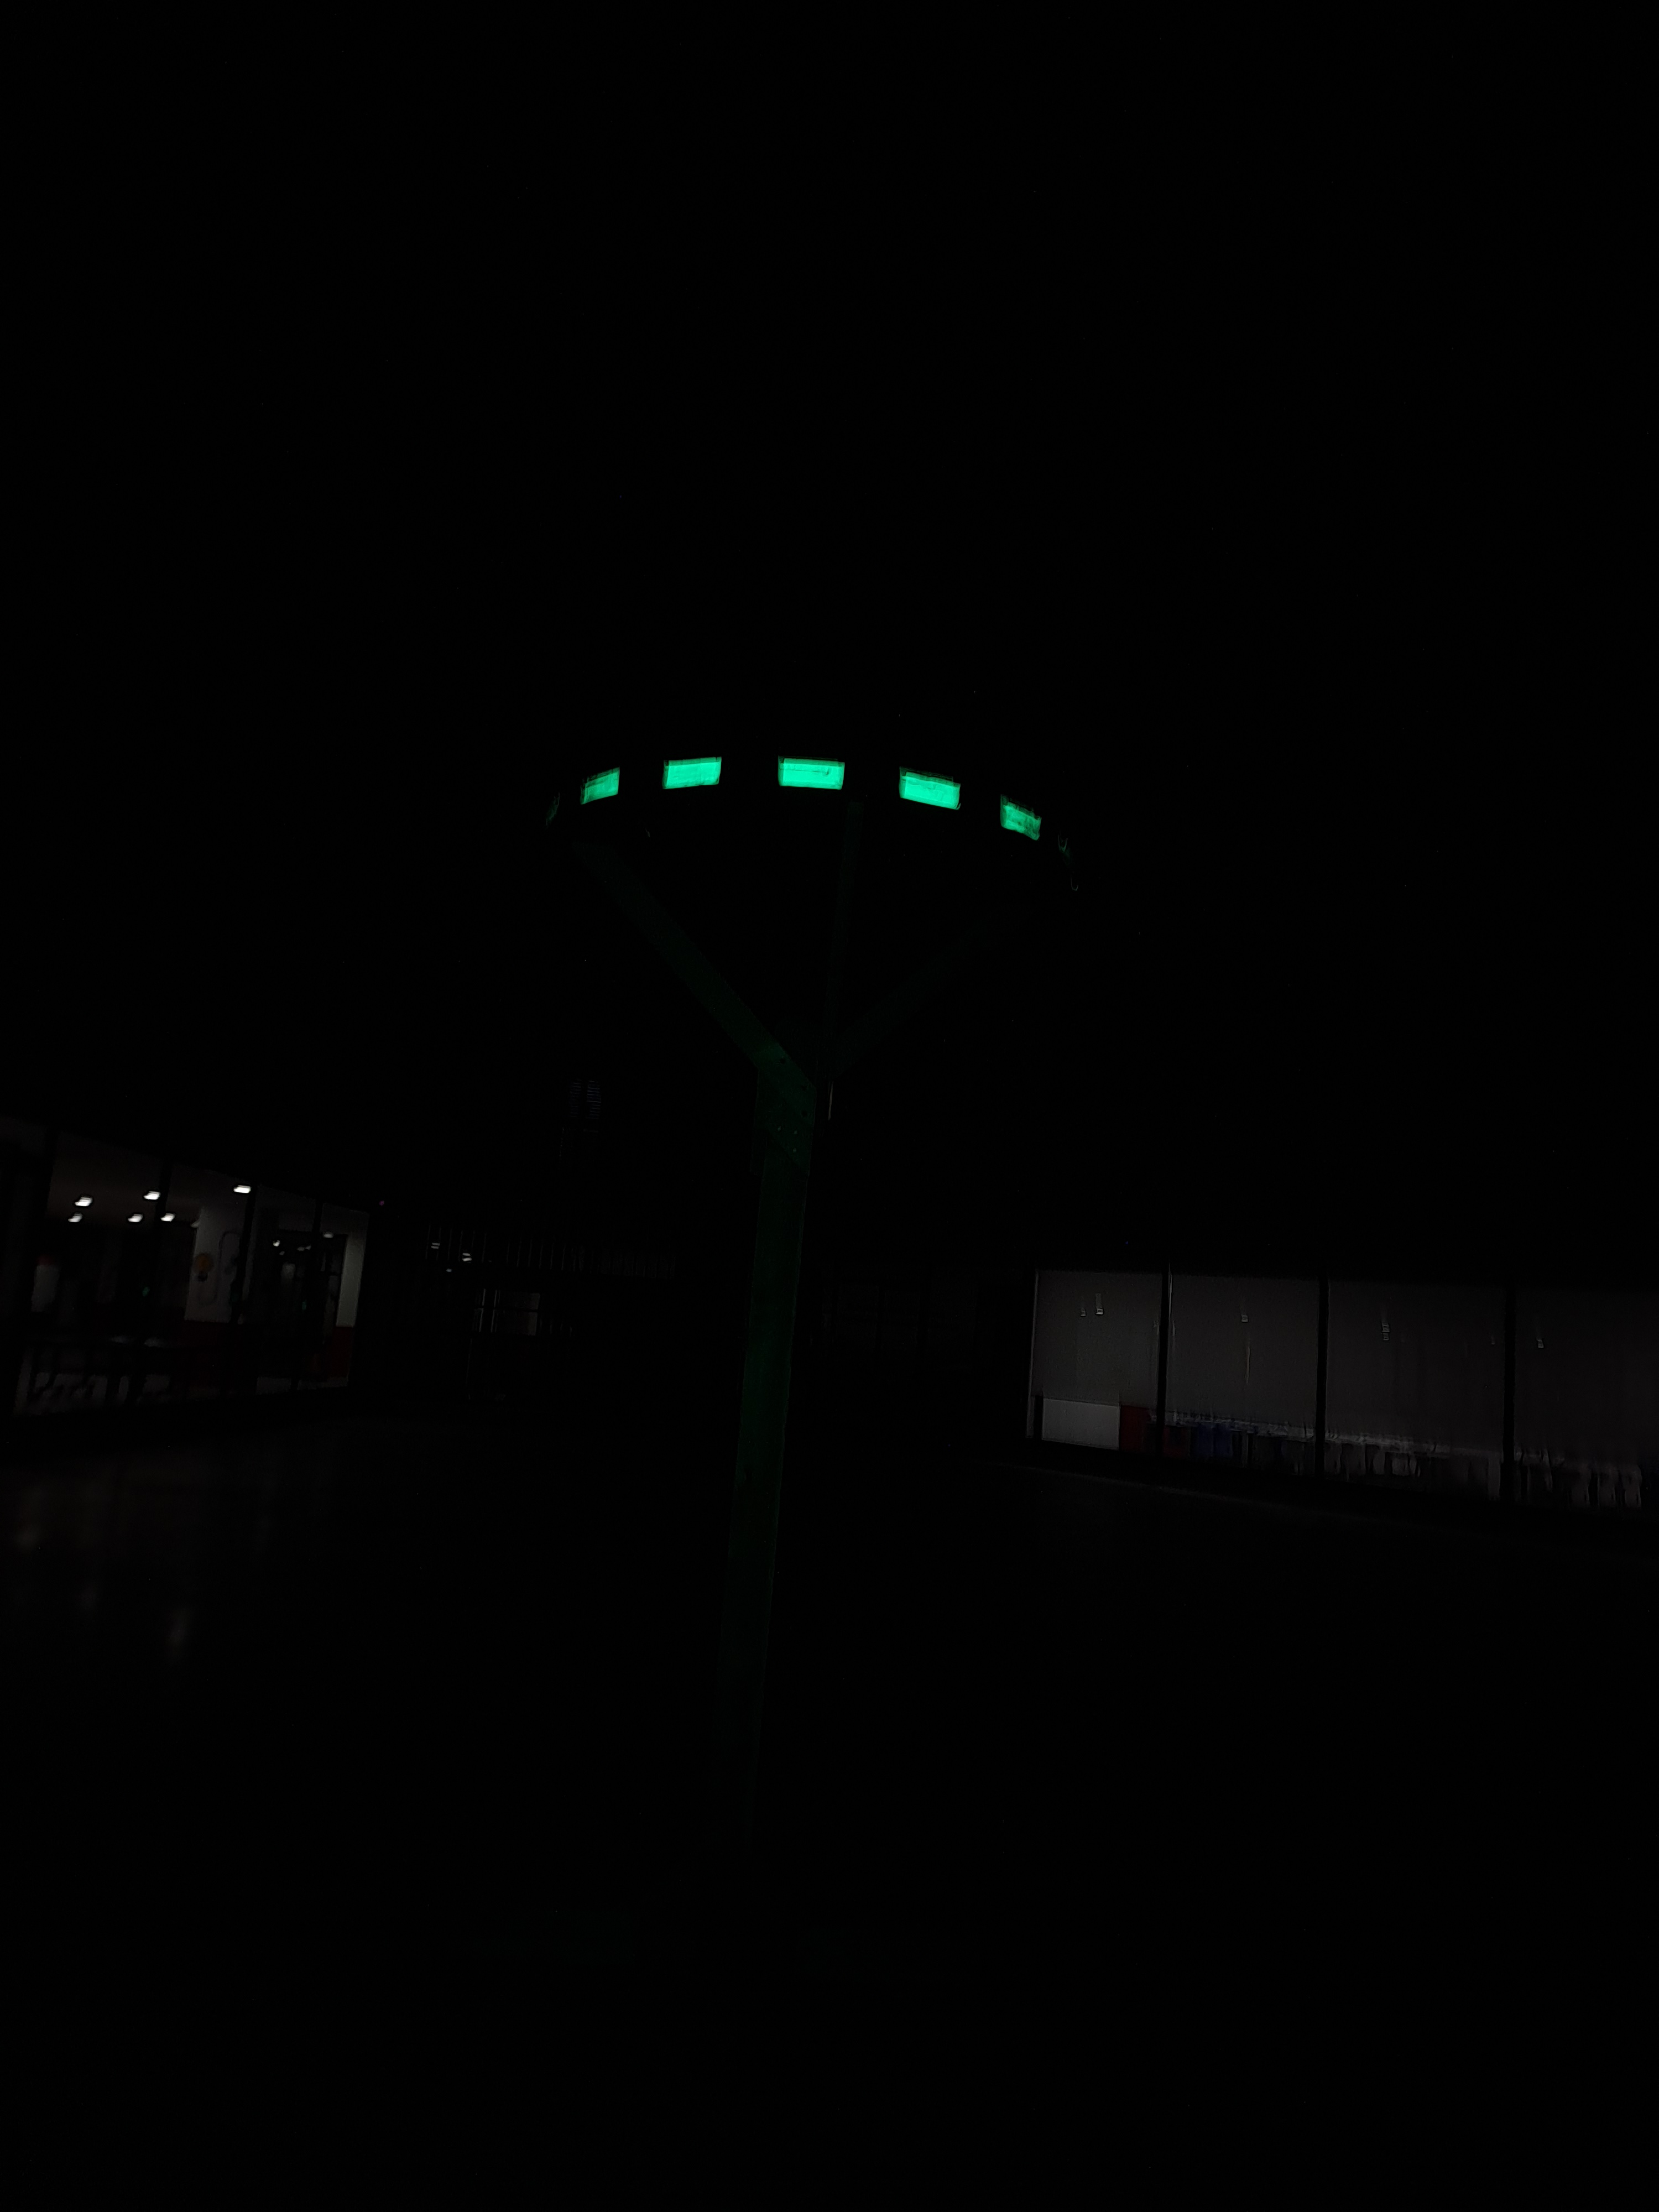hoop: (573, 742, 1044, 853)
